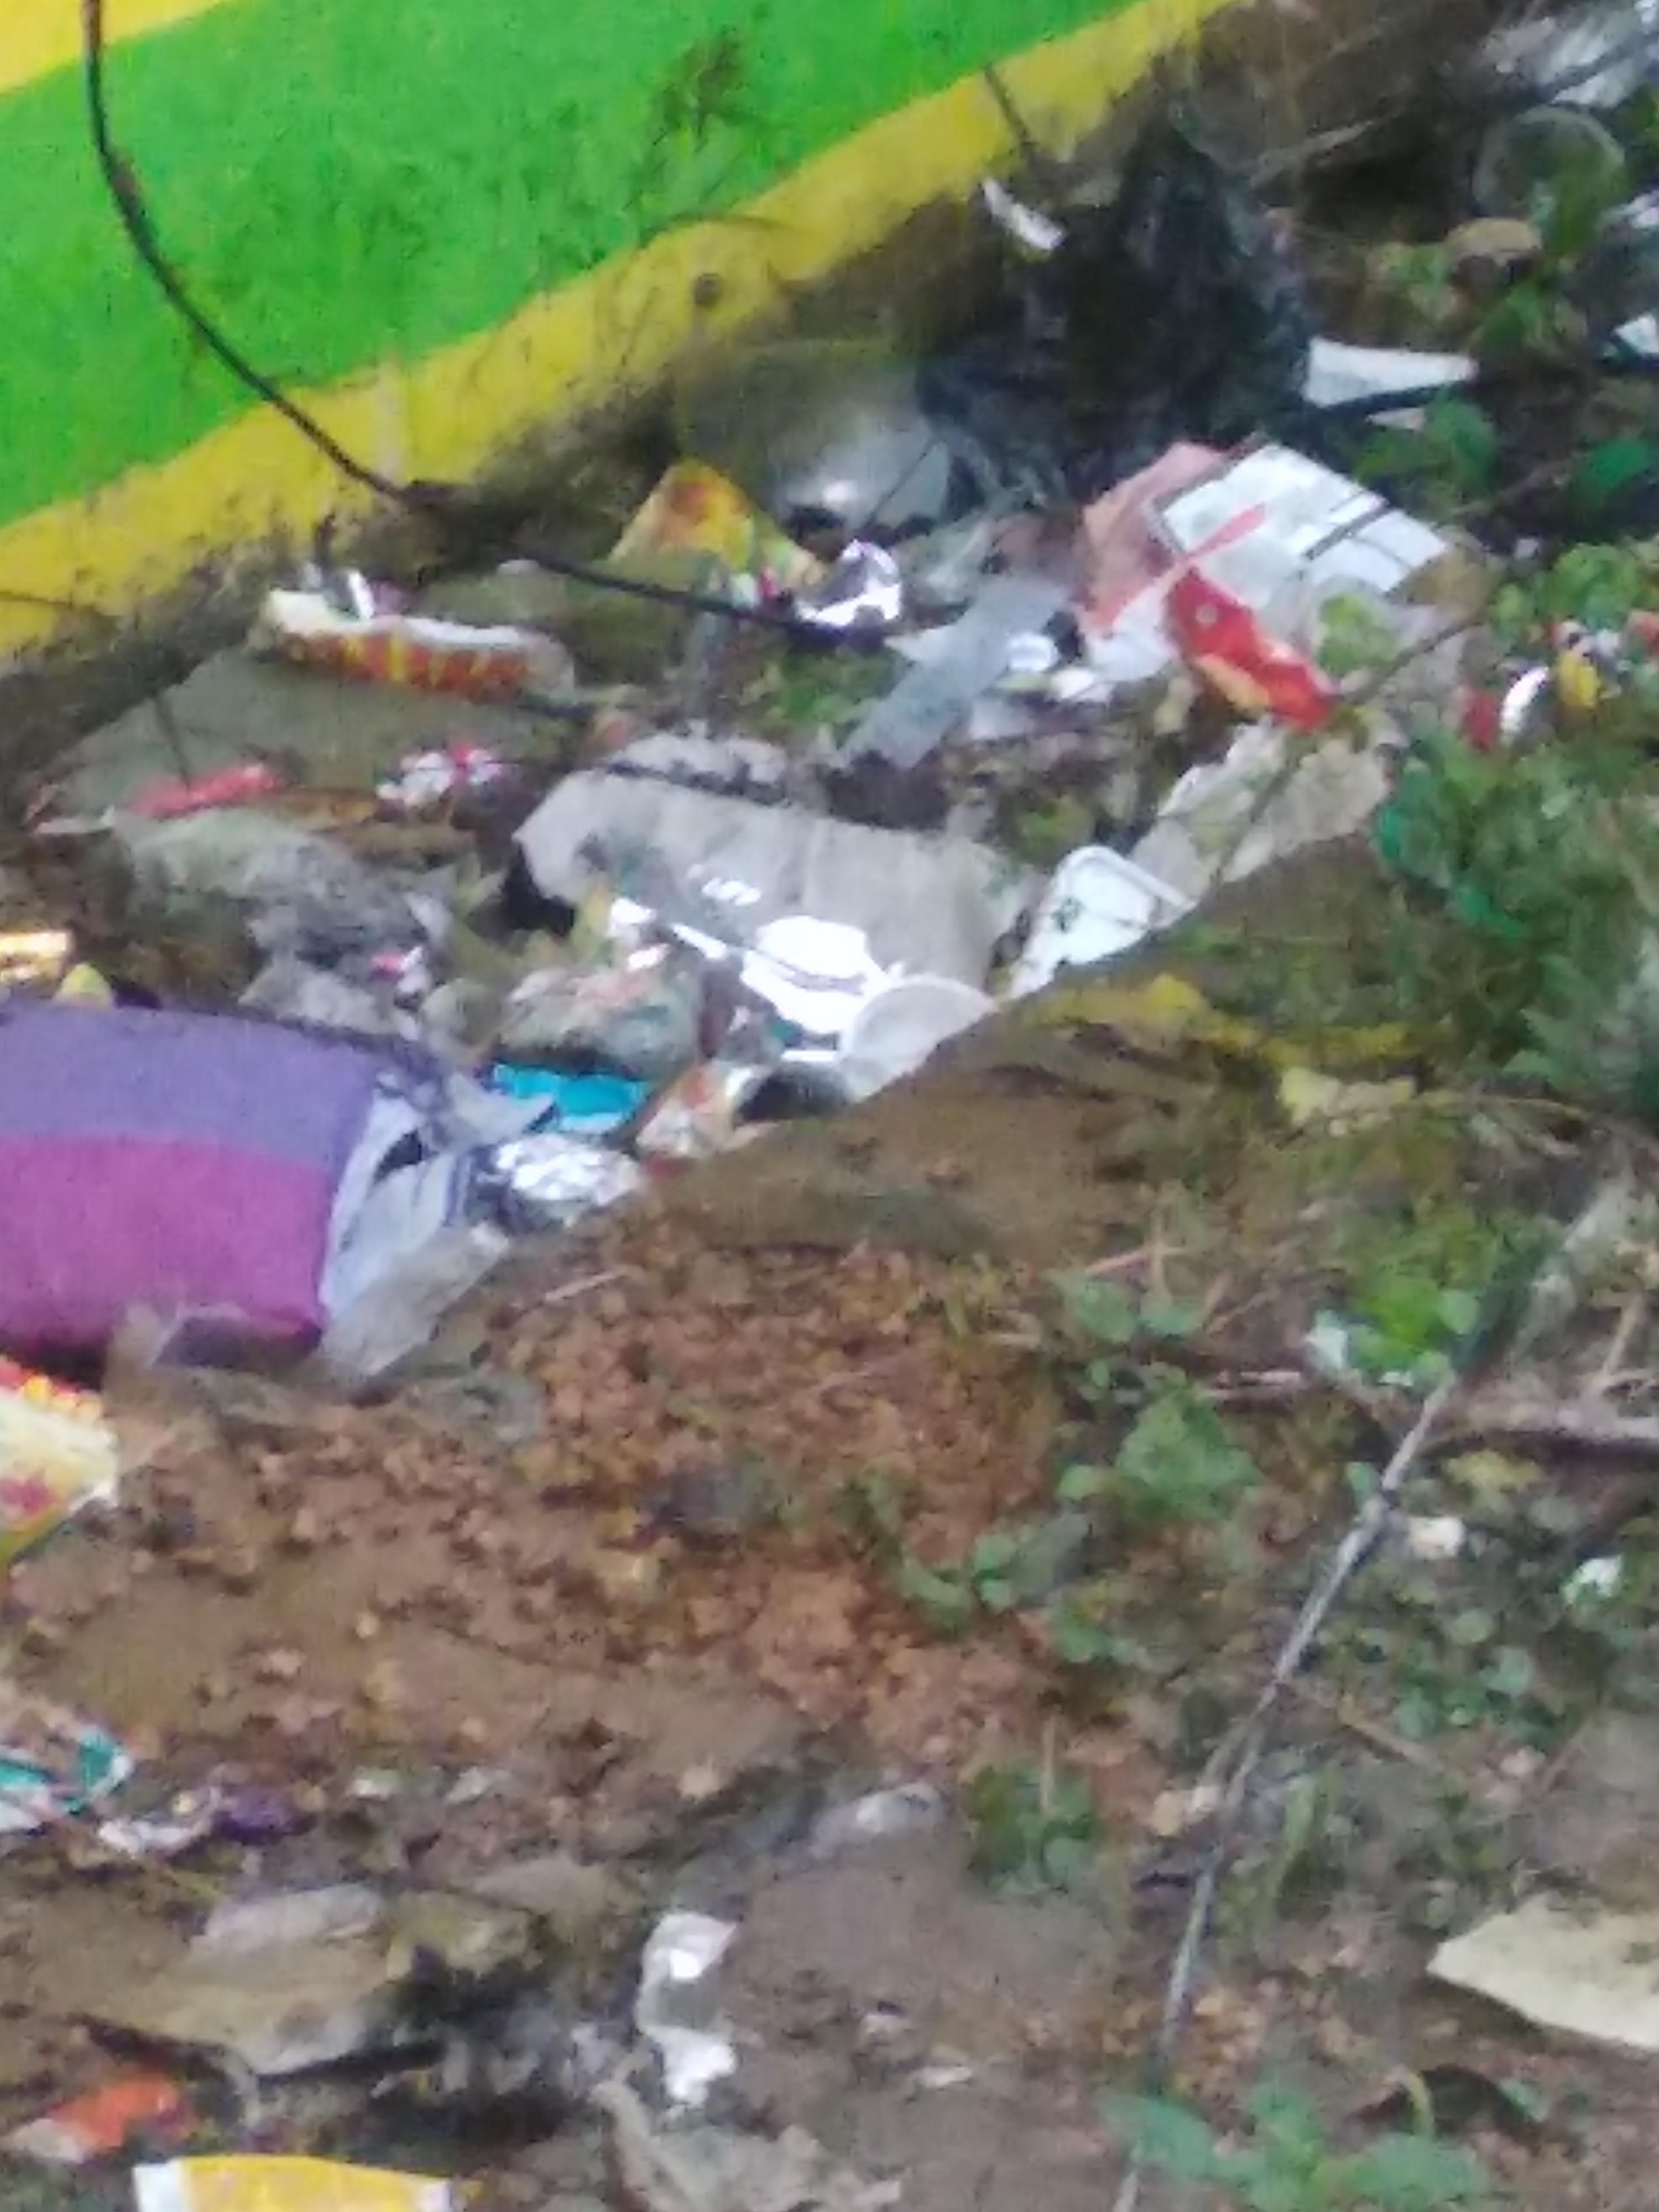trash: (0, 0, 1659, 1573)
